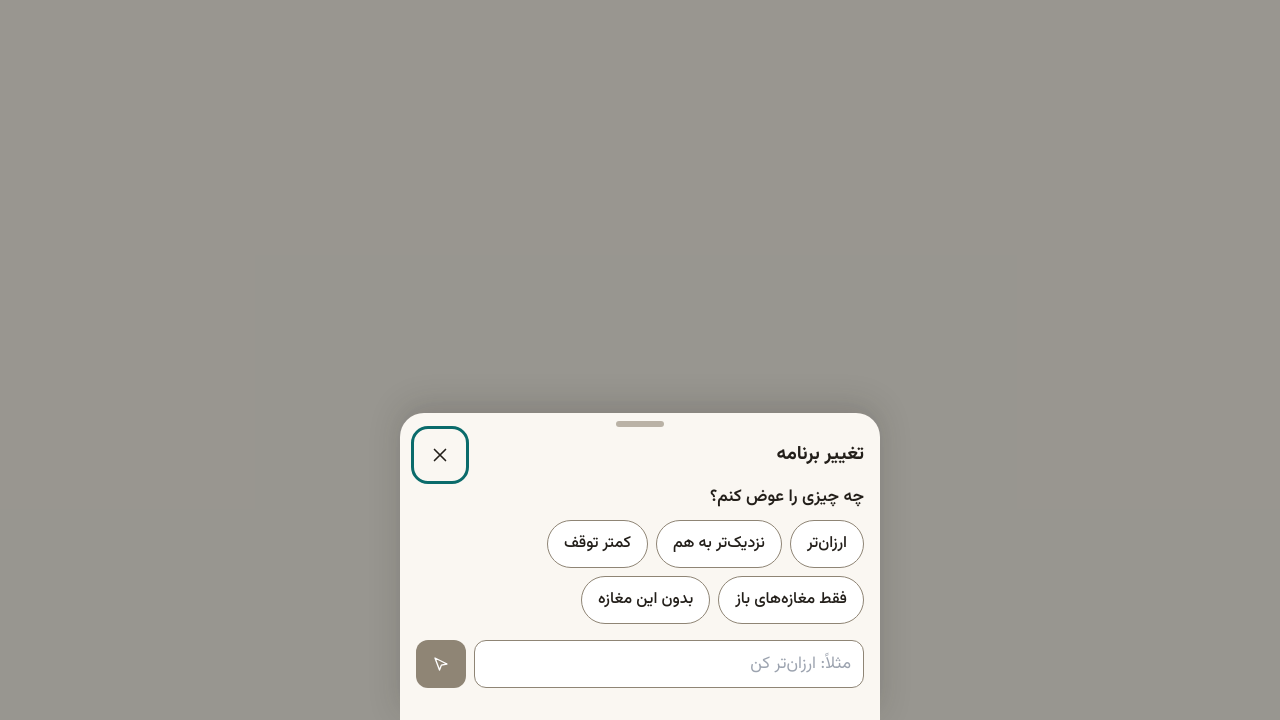
Test: assistant sheet: honest wording for the no-model mode › server says degradedReason failed: the outage wording stays
Click the button "ارزان‌تر": (827, 544) [790,520,864,568]
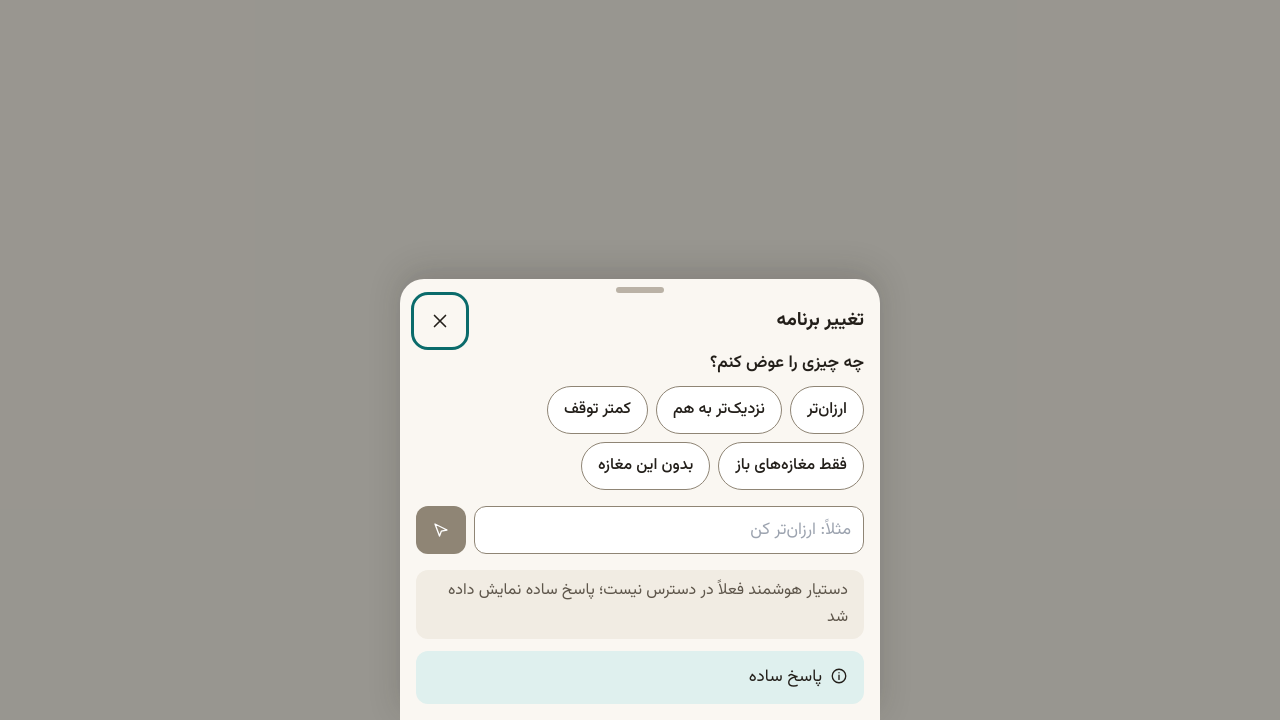
Expected: the text "دستیار هوشمند فعلاً در دسترس نیست؛ پاسخ ساده نمایش داده شد" is shown, [416,570,864,639]
